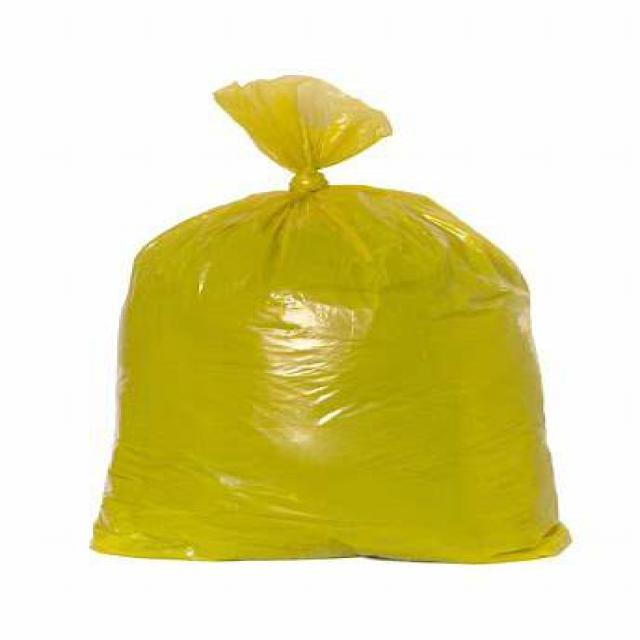waste: (92, 74, 568, 568)
